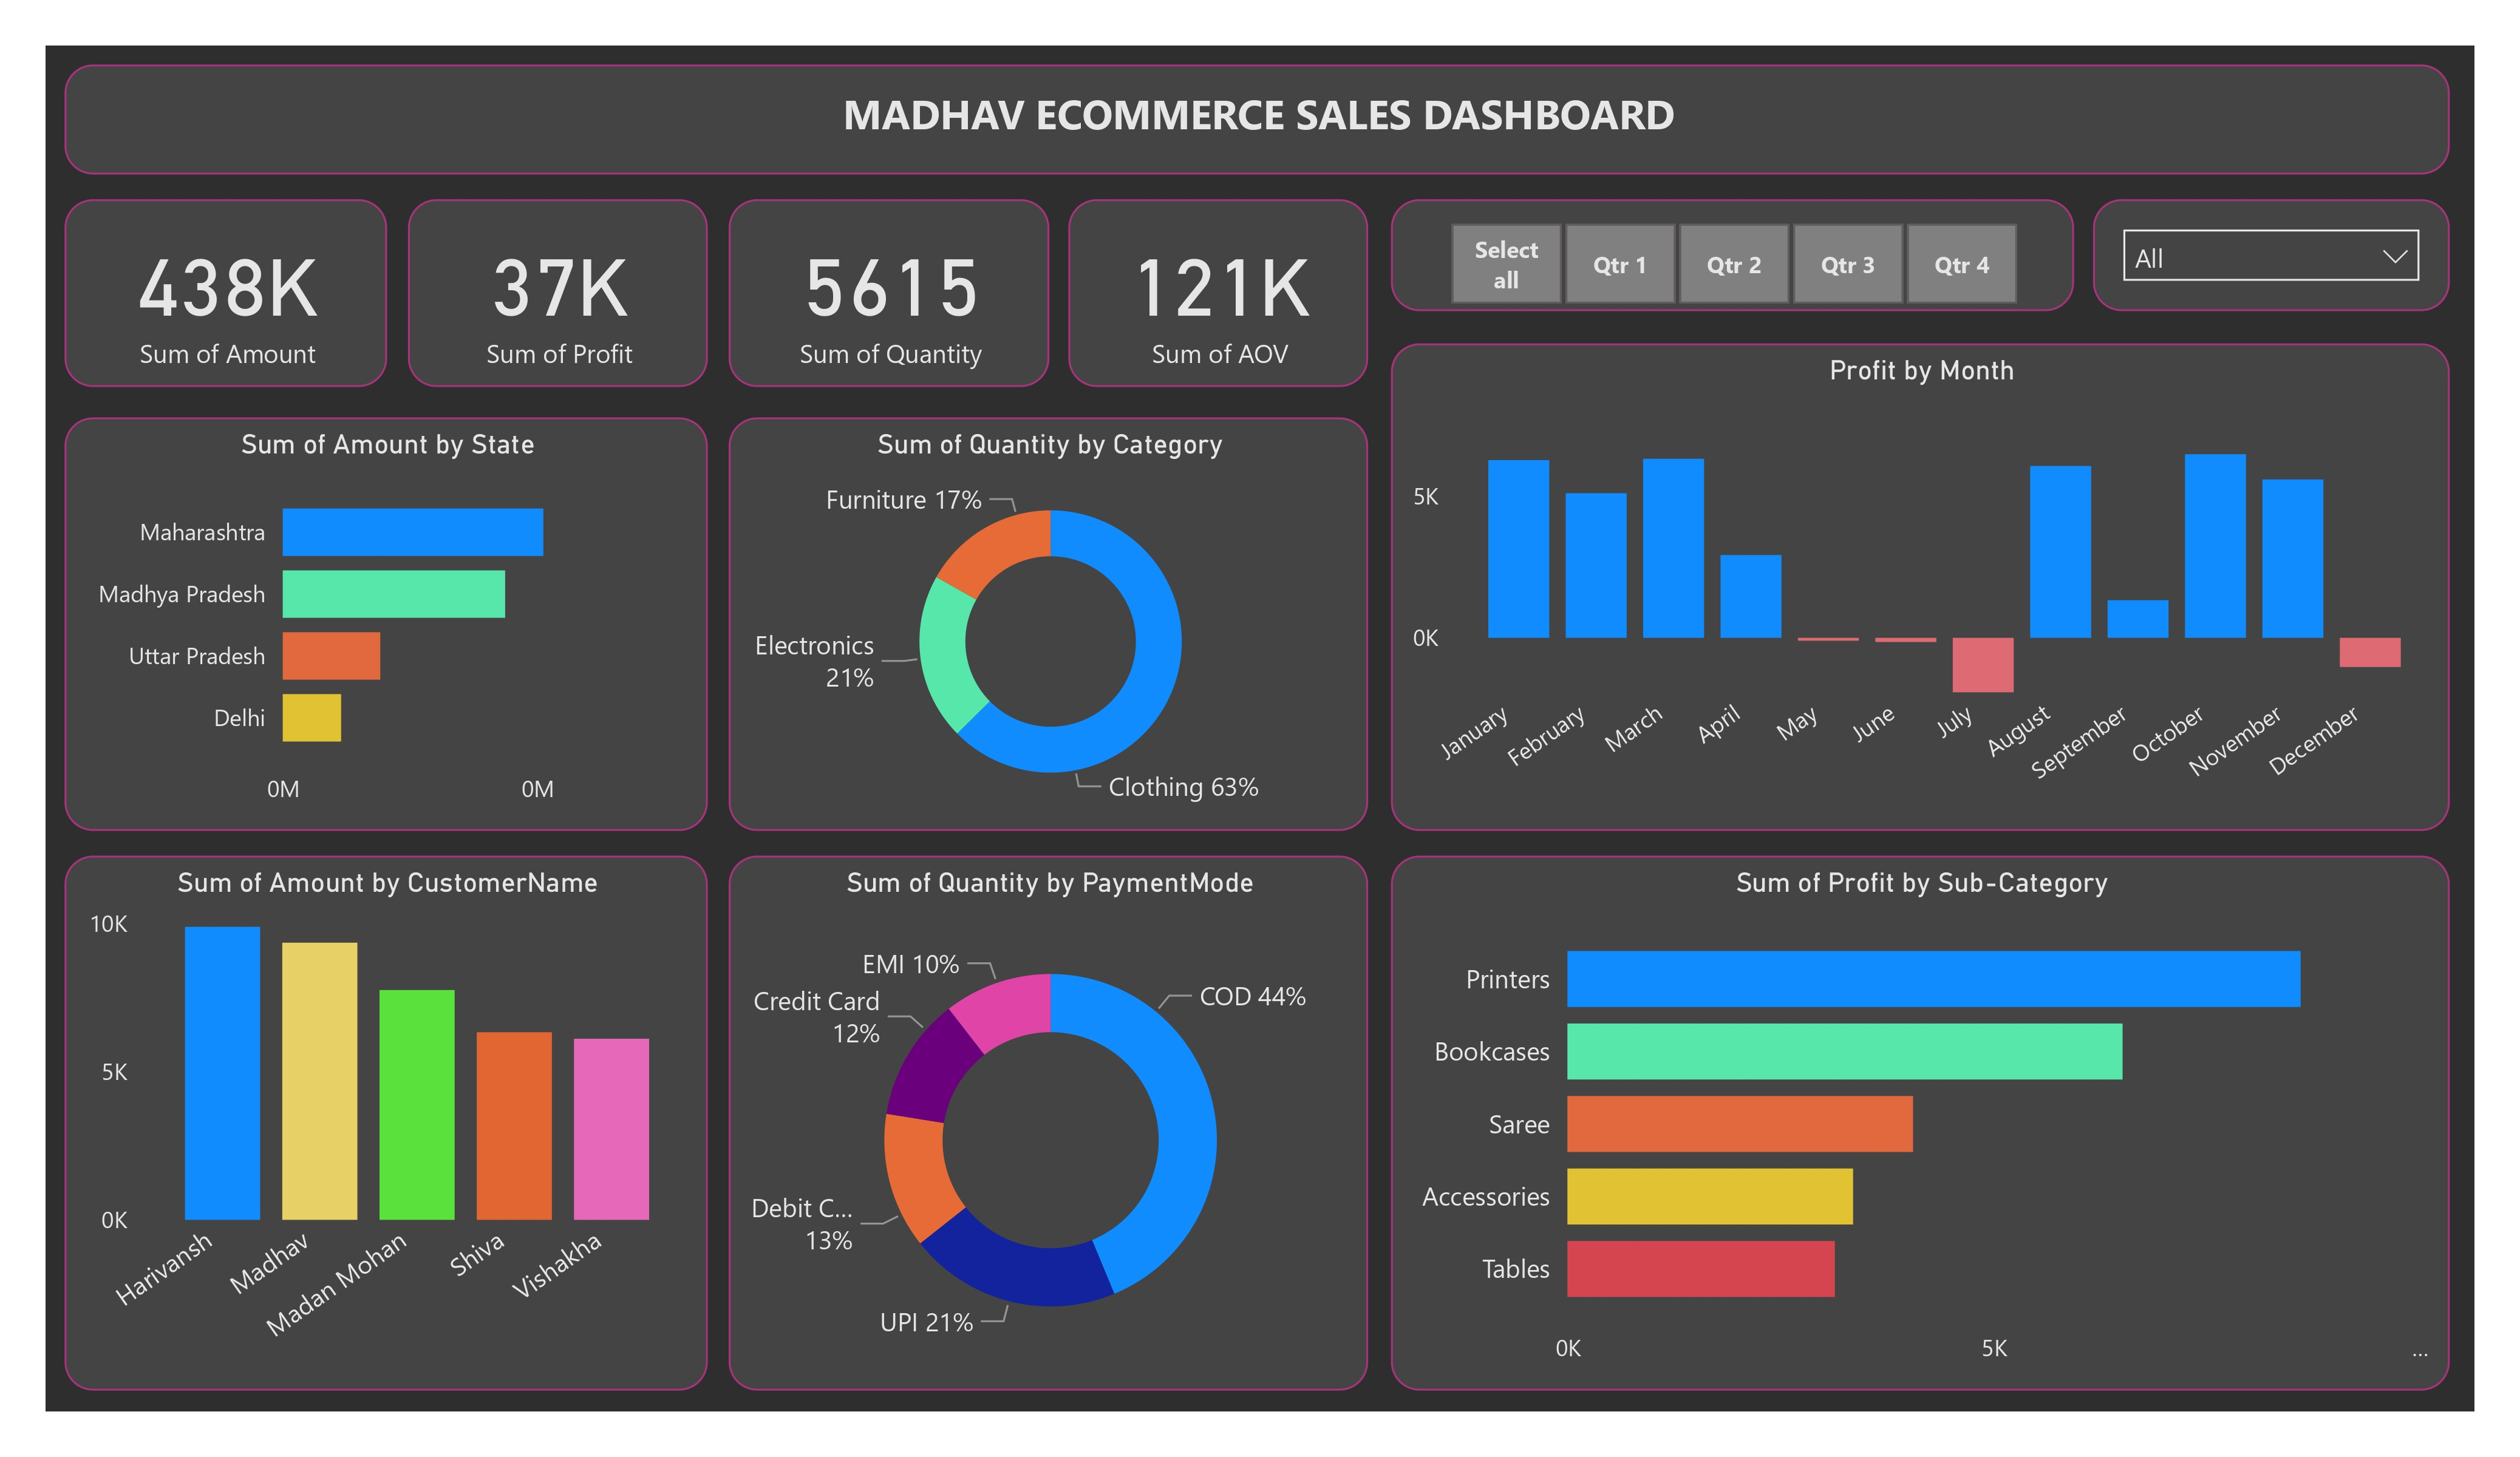

The page's visual inventory and layout, read from the dashboard file:
{"tool":"powerbi","page":{"name":"Page 1","canvas":[1280,720],"ordinal":0},"visuals":[{"type":"textbox","box":[9.9,9.9,1257.2,58.1],"z":0},{"type":"columnChart","title":"Profit by Month","fields":{"Category":["Orders.Order Date.Variation.Date Hierarchy.Month"],"Y":["Details.Profit"]},"box":[708.7,157.3,558.4,256.5],"z":1000},{"type":"barChart","fields":{"Category":["Details.Sub-Category"],"Y":["Details.Profit"]},"box":[708.7,426.6,558.4,282],"z":2000},{"type":"donutChart","fields":{"Category":["Details.Category"],"Y":["Details.Quantity"]},"box":[360,195.6,337.3,218.3],"z":3000},{"type":"donutChart","fields":{"Y":["Details.Quantity"],"Category":["Details.PaymentMode"]},"box":[360,426.6,337.3,282],"z":4000},{"type":"card","fields":{"Values":["Details.Amount"]},"box":[9.9,80.8,170.1,99.2],"z":5000},{"type":"card","fields":{"Values":["Details.Profit"]},"box":[191.3,80.8,157.3,99.2],"z":6000},{"type":"card","fields":{"Values":["Details.Quantity"]},"box":[360,80.8,168.7,99.2],"z":7000},{"type":"card","fields":{"Values":["Details.AOV"]},"box":[538.6,80.8,158.7,99.2],"z":8000},{"type":"barChart","fields":{"Category":["Orders.State"],"Y":["Details.Amount"]},"box":[9.9,195.6,338.7,218.3],"z":9000},{"type":"columnChart","fields":{"Category":["Orders.CustomerName"],"Y":["Details.Amount"]},"box":[9.9,426.6,338.7,282],"z":10000},{"type":"slicer","fields":{"Values":["Orders.Order Date.Variation.Date Hierarchy.Quarter"]},"box":[708.7,80.8,360,59.5],"z":11000},{"type":"slicer","fields":{"Values":["Orders.State"]},"box":[1078.6,80.8,188.5,59.5],"z":12000}]}

Visuals, with their boxes on the page's 1280x720 design canvas (x1, y1, x2, y2). These are canvas units, not pixel positions in the 2520x1457 screenshot, which may show the page scaled, cropped or inside an application window:
textbox: bbox(10, 10, 1267, 68)
"Profit by Month" columnChart: bbox(709, 157, 1267, 414)
barChart - Details.Sub-Category x Details.Profit: bbox(709, 427, 1267, 709)
donutChart - Details.Category x Details.Quantity: bbox(360, 196, 697, 414)
donutChart - Details.Quantity x Details.PaymentMode: bbox(360, 427, 697, 709)
card - Details.Amount: bbox(10, 81, 180, 180)
card - Details.Profit: bbox(191, 81, 349, 180)
card - Details.Quantity: bbox(360, 81, 529, 180)
card - Details.AOV: bbox(539, 81, 697, 180)
barChart - Orders.State x Details.Amount: bbox(10, 196, 349, 414)
columnChart - Orders.CustomerName x Details.Amount: bbox(10, 427, 349, 709)
slicer - Orders.Order Date.Variation.Date Hierarchy.Quarter: bbox(709, 81, 1069, 140)
slicer - Orders.State: bbox(1079, 81, 1267, 140)
